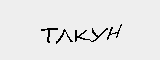К: (75, 27, 91, 44)
Л: (54, 27, 74, 43)
Н: (106, 21, 123, 42)
Т: (41, 26, 56, 44)
У: (90, 26, 107, 45)
